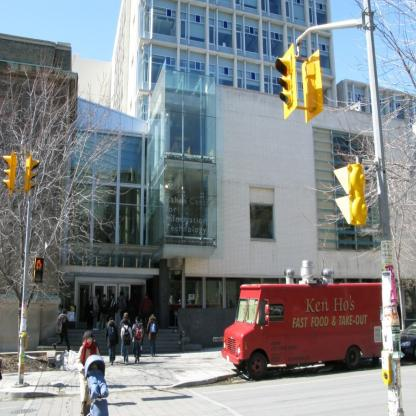Car: (403, 323, 416, 366)
